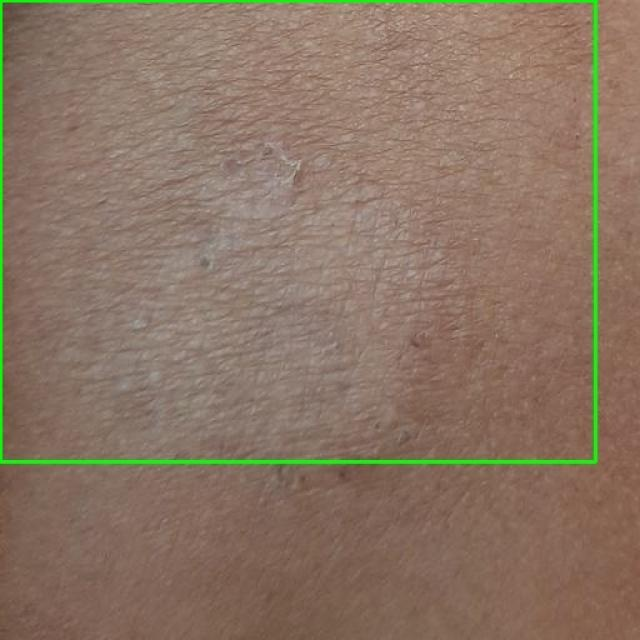Tinea Corporis: (0, 0, 595, 461)
